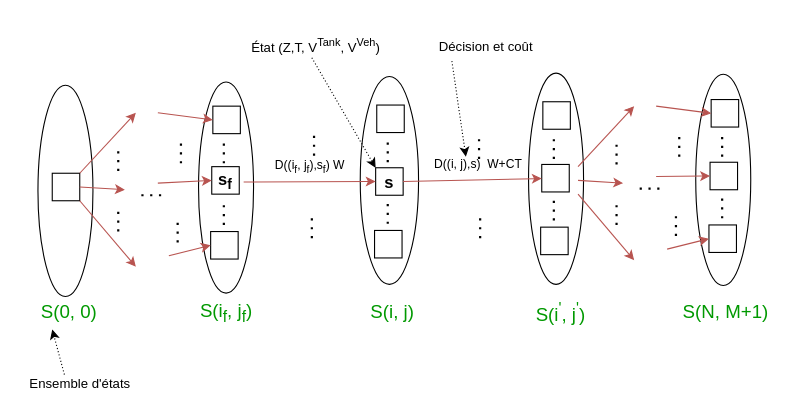
This 793x414 diagram has some shape labels left out. The centre of each missing label's shape, as x and y in pixels:
"s '" belongs at point (555, 177).
"s 0" belongs at point (65, 186).
